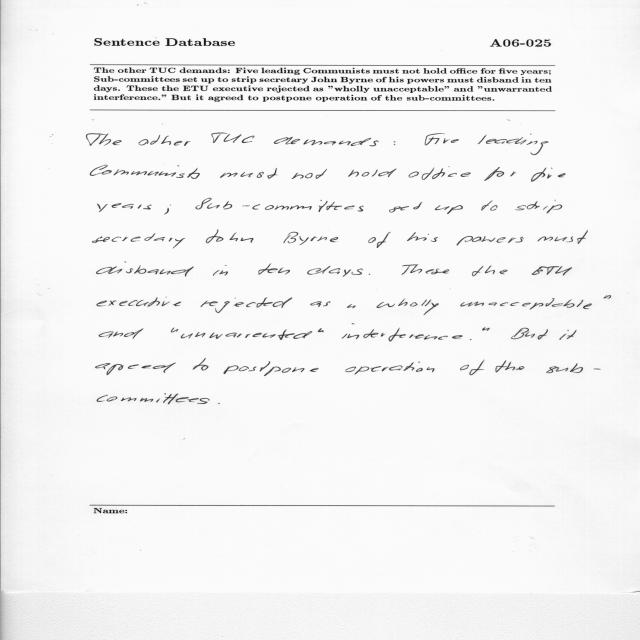word: (195, 198, 364, 212), (342, 324, 463, 342), (90, 165, 200, 179), (93, 233, 185, 249), (478, 134, 548, 155), (96, 262, 194, 277), (460, 298, 592, 309), (181, 329, 312, 340), (224, 361, 319, 376), (201, 298, 292, 313), (345, 362, 435, 375), (97, 394, 210, 404), (377, 298, 439, 315), (95, 363, 176, 375), (274, 137, 379, 146), (408, 166, 471, 180), (97, 297, 181, 307), (537, 230, 588, 244), (284, 232, 338, 245), (457, 236, 524, 246), (220, 168, 277, 179), (206, 230, 254, 243), (307, 266, 363, 277), (516, 200, 563, 213), (139, 135, 191, 146), (546, 363, 601, 373), (402, 264, 450, 275), (531, 168, 566, 182), (98, 203, 152, 212), (99, 328, 143, 339), (87, 133, 122, 146), (484, 167, 516, 181), (211, 133, 255, 143), (425, 133, 459, 145), (511, 328, 548, 339), (532, 266, 572, 276), (348, 169, 397, 177), (472, 266, 507, 277), (496, 360, 525, 373), (460, 360, 485, 375), (368, 232, 391, 248), (389, 202, 422, 213), (258, 264, 290, 275), (292, 169, 327, 179), (407, 232, 438, 242), (435, 205, 463, 214), (193, 358, 209, 371), (481, 200, 498, 211), (559, 330, 577, 340), (213, 265, 228, 276), (311, 301, 331, 307), (164, 205, 171, 215), (347, 304, 356, 308), (171, 328, 178, 333), (482, 327, 490, 331), (604, 295, 611, 299), (318, 328, 324, 332), (394, 141, 396, 145), (218, 403, 220, 404), (369, 274, 370, 275), (470, 339, 471, 340)
